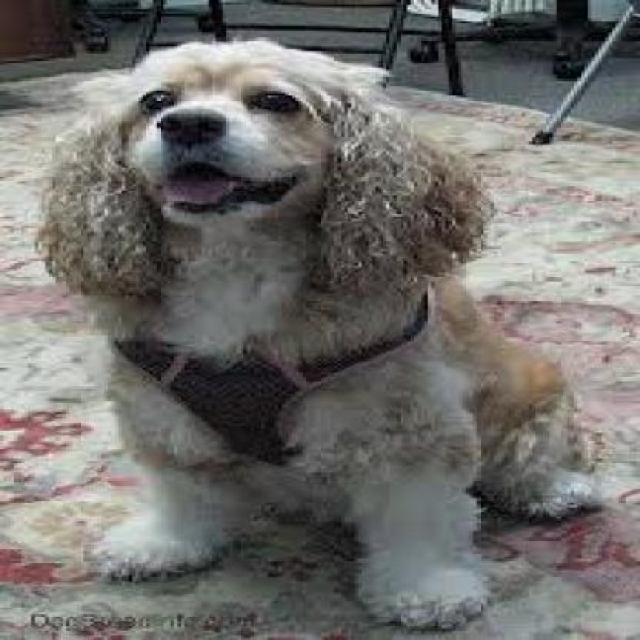animals: (39, 29, 558, 606)
